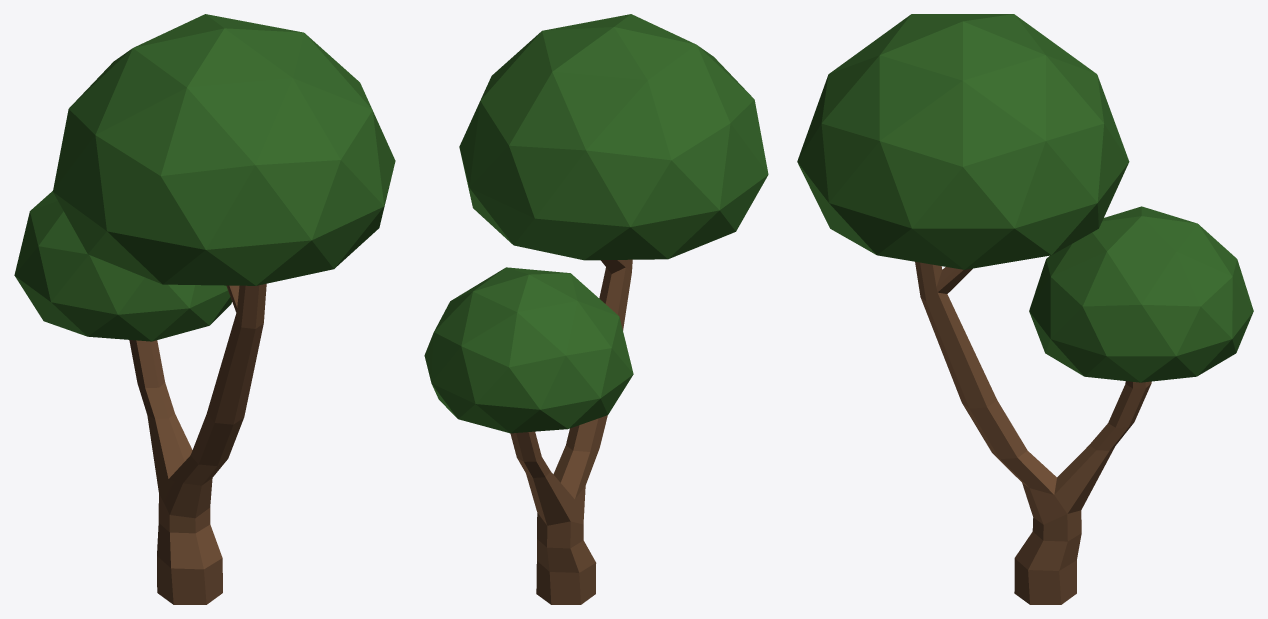
Rendered from Tree_2.fbx.
The picture shows the model from 3 angles, left to right: view 1: azimuth 30°, elevation 25°; view 2: azimuth 150°, elevation 25°; view 3: azimuth 270°, elevation 25°; orthographic projection. The views are drawn at different scales.
Visible parts, largest first — view 1: Tree2; view 2: Tree2; view 3: Tree2.
Boxes of the visible parts, left/top/right/bottom form: Tree2: left=14, top=14, right=395, bottom=604; Tree2: left=424, top=14, right=768, bottom=604; Tree2: left=797, top=14, right=1253, bottom=604.
Size of the model in its own units: 159 by 315 by 230.
